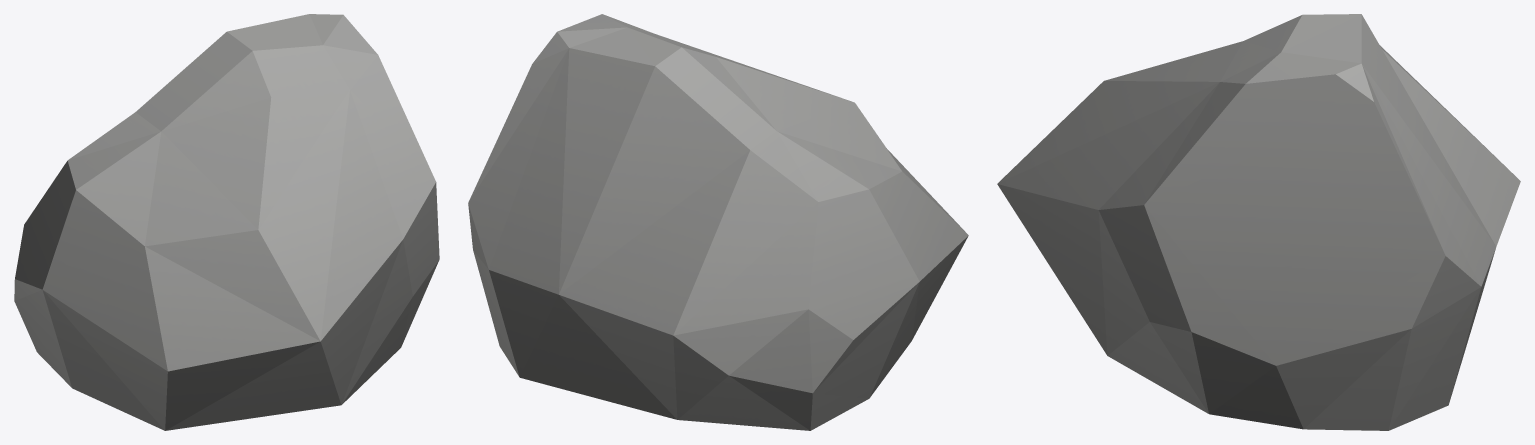
The model's file is Cavern_RockMed-02.fbx.
The picture shows the model from 3 angles, left to right: view 1: azimuth 30°, elevation 25°; view 2: azimuth 150°, elevation 25°; view 3: azimuth 270°, elevation 25°; orthographic projection. The views are drawn at different scales.
Visible parts, largest first — view 1: Cavern_RockMed-02; view 2: Cavern_RockMed-02; view 3: Cavern_RockMed-02.
Boxes of the visible parts, x1,y1,x2,y2 form: Cavern_RockMed-02: [14, 14, 439, 430]; Cavern_RockMed-02: [468, 14, 968, 430]; Cavern_RockMed-02: [997, 14, 1520, 430].
Size of the model in its own units: 122 by 91.86 by 128.
1 material, 1 textured.
